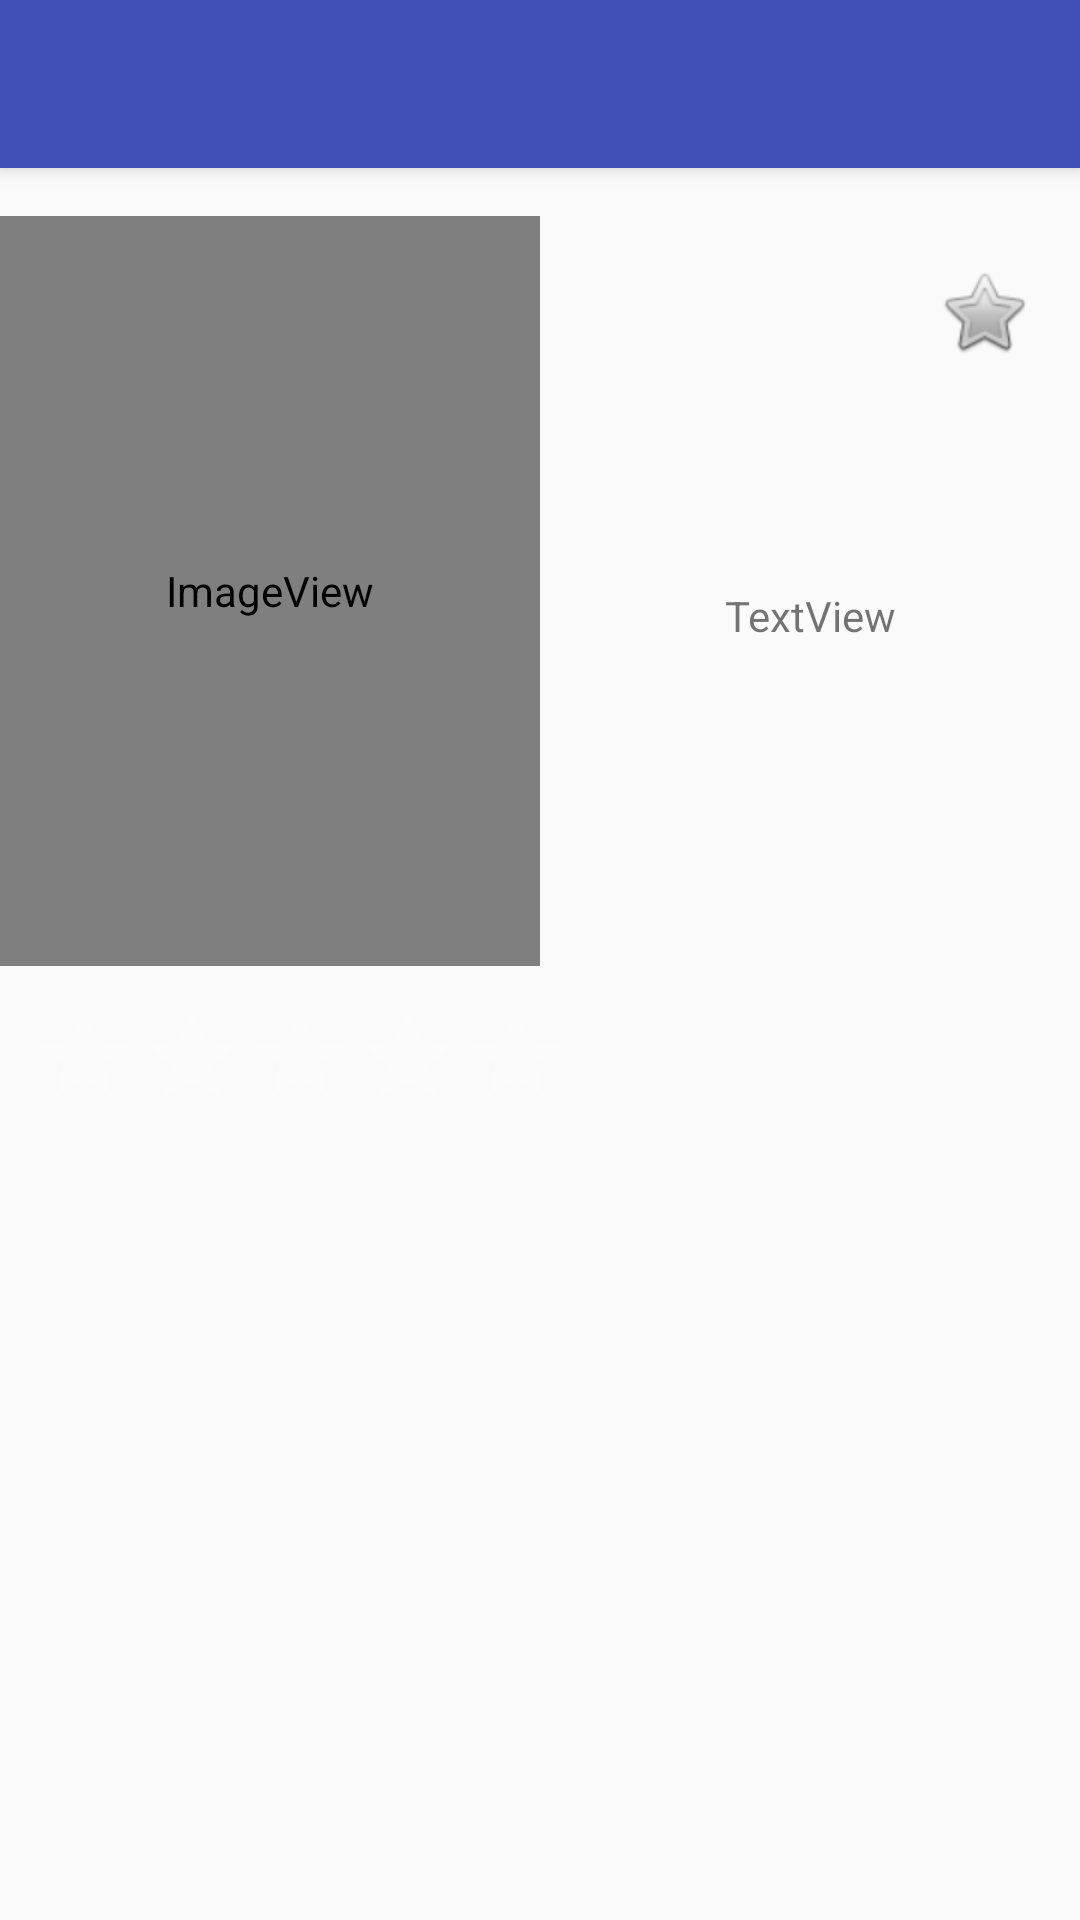

Screen size 1080 × 1920. Icon name, then its center in pixels as (x,y):
star off: (985,313)
